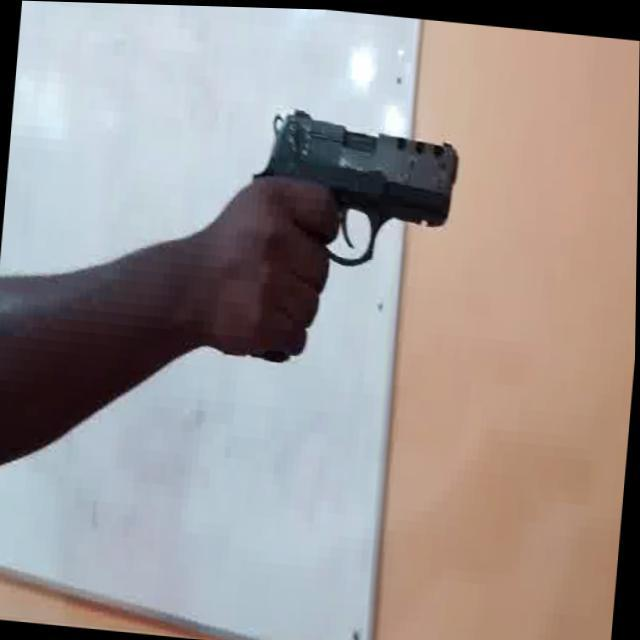weapon: (248, 100, 462, 274)
